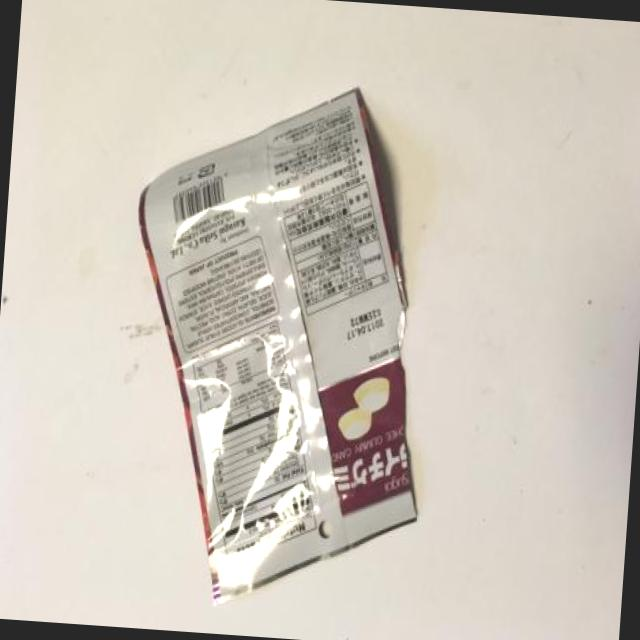Trash: (108, 71, 448, 618)
